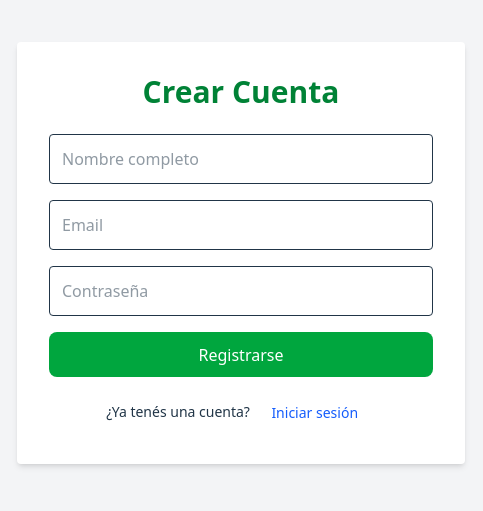
RegisterPage › muestra mensaje de error si el registro falla
The image size is (483, 511).
Type "Matías" into the field with placeholder "Nombre completo". click: [241, 159]
box: [49,134,433,184]
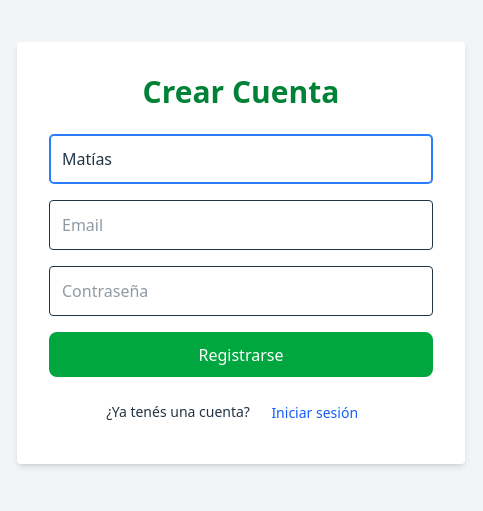
Type "yaexiste@example.com" into the field with placeholder "Email". click: [241, 225]
box: [49,200,433,250]
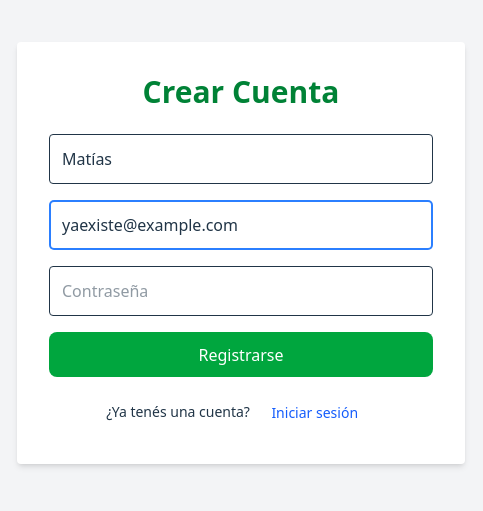
Type "securepass" into the password field with placeholder "Contraseña". click: [241, 291]
box: [49,266,433,316]
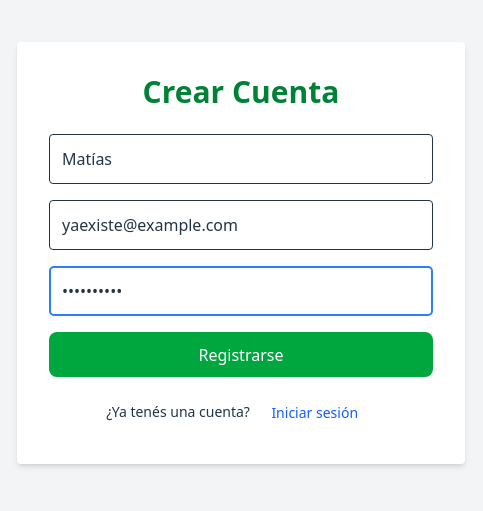
Click the button "Registrarse". click: [241, 355]
box: [49,332,433,377]
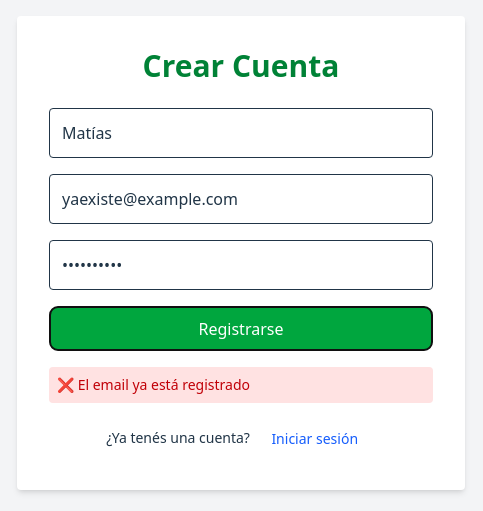
Now the text "❌ El email ya está registrado" is shown, box [49,367,433,403]
